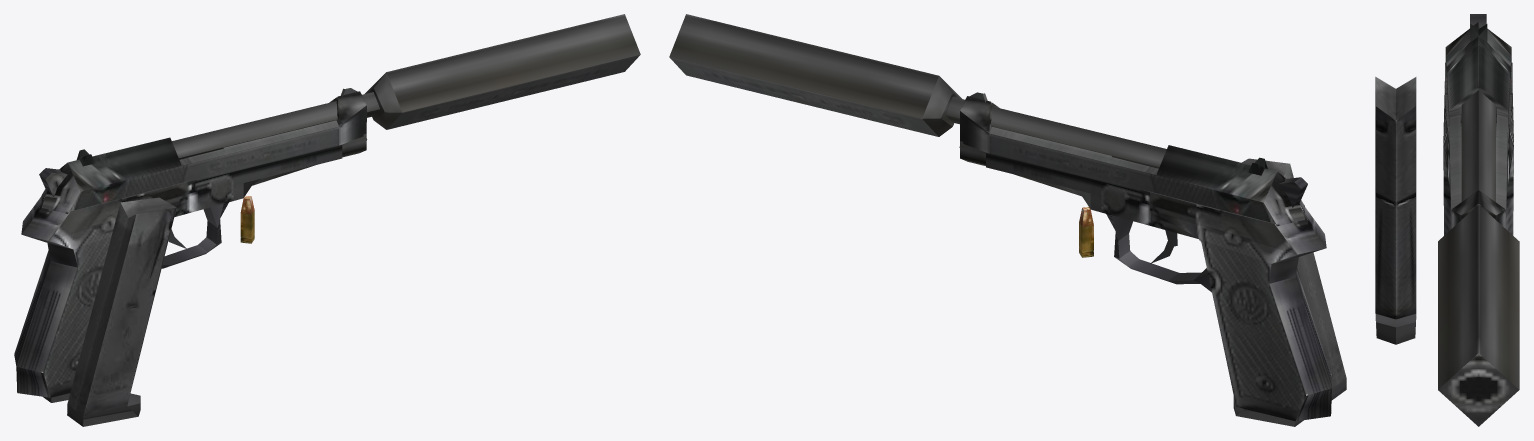
The picture shows the model from 3 angles, left to right: view 1: azimuth 30°, elevation 25°; view 2: azimuth 150°, elevation 25°; view 3: azimuth 270°, elevation 25°; orthographic projection. The views are drawn at different scales.
Visible parts, largest first — view 1: Body, Supressor, Magazine, Slide, 9MM, Hammer&Trigger; view 2: Body, Supressor, Slide, Magazine, Hammer&Trigger, 9MM; view 3: Supressor, Magazine, Slide, Body, Hammer&Trigger.
Part boxes in pixels (x1,y1,x2,y2): Body: (14, 92, 379, 397); Supressor: (365, 14, 640, 129); Magazine: (67, 197, 176, 426); Slide: (41, 88, 366, 213); 9MM: (240, 195, 254, 243); Hammer&Trigger: (39, 168, 187, 249); Body: (946, 97, 1331, 421); Supressor: (669, 14, 961, 136); Slide: (960, 92, 1305, 226); Magazine: (1242, 158, 1346, 400); Hammer&Trigger: (1150, 177, 1307, 263); 9MM: (1079, 207, 1093, 257); Supressor: (1438, 204, 1519, 426); Magazine: (1375, 76, 1416, 344); Slide: (1445, 22, 1511, 228); Body: (1443, 62, 1513, 235); Hammer&Trigger: (1470, 14, 1486, 27).
Bounding box in the file's own units: 3.94 × 1.52 × 0.6328.
Materials: 6 (6 with a texture image).
